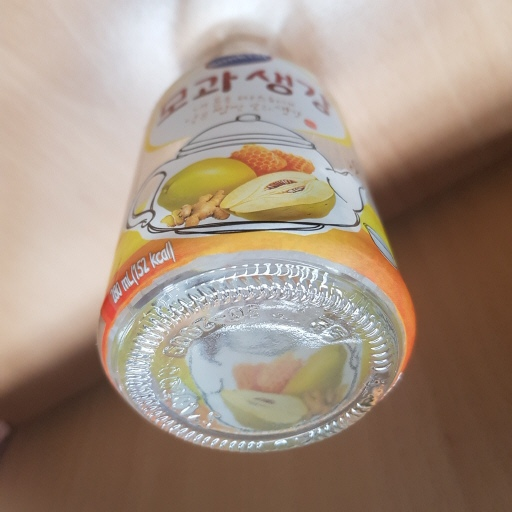Glass_4: (88, 19, 422, 453)
